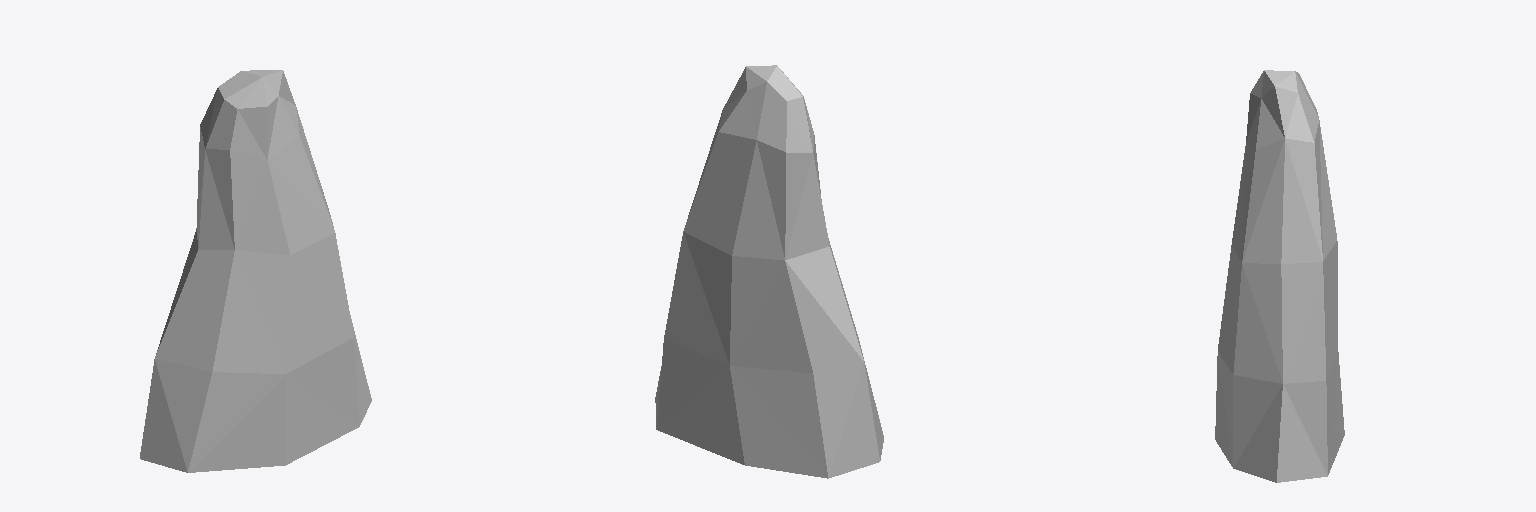
Rendered from cot_standingstone02.obj.
3 views of the same model, side by side, from view 1: azimuth 30°, elevation 25°; view 2: azimuth 150°, elevation 25°; view 3: azimuth 270°, elevation 25° (orthographic).
Visible parts, largest first — view 1: COT_standingstone02; view 2: COT_standingstone02; view 3: COT_standingstone02.
Boxes of the visible parts, box(x1,y1,x2,y2) form: COT_standingstone02: box(140, 70, 371, 472); COT_standingstone02: box(655, 65, 883, 478); COT_standingstone02: box(1215, 70, 1344, 482).
Size of the model in its own units: 24.87 by 38.46 by 12.22.